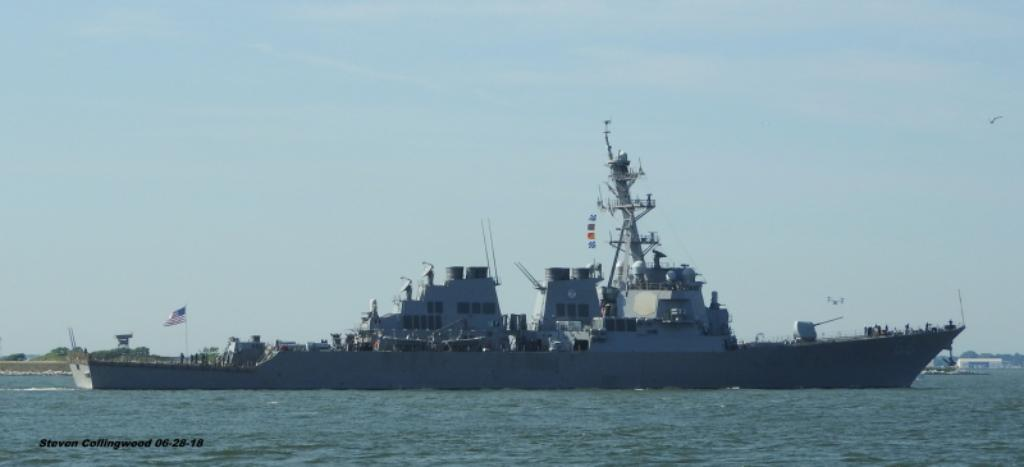Warship: (65, 113, 971, 393)
